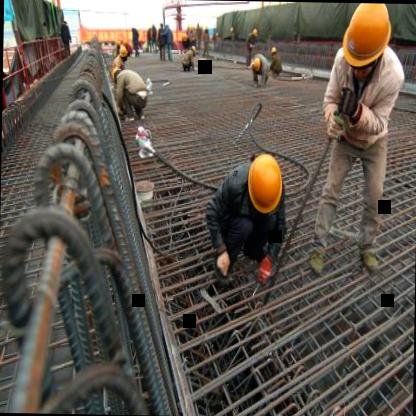helmet: (340, 2, 393, 79), (244, 148, 284, 219), (108, 60, 124, 87), (118, 43, 130, 62), (251, 54, 262, 74), (270, 42, 280, 58), (249, 25, 258, 40), (190, 40, 197, 56), (182, 30, 190, 42)
